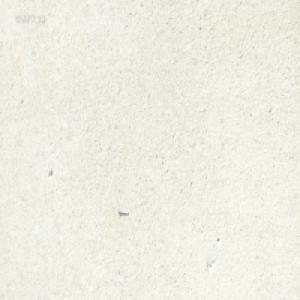Nail: (118, 209, 128, 216)
